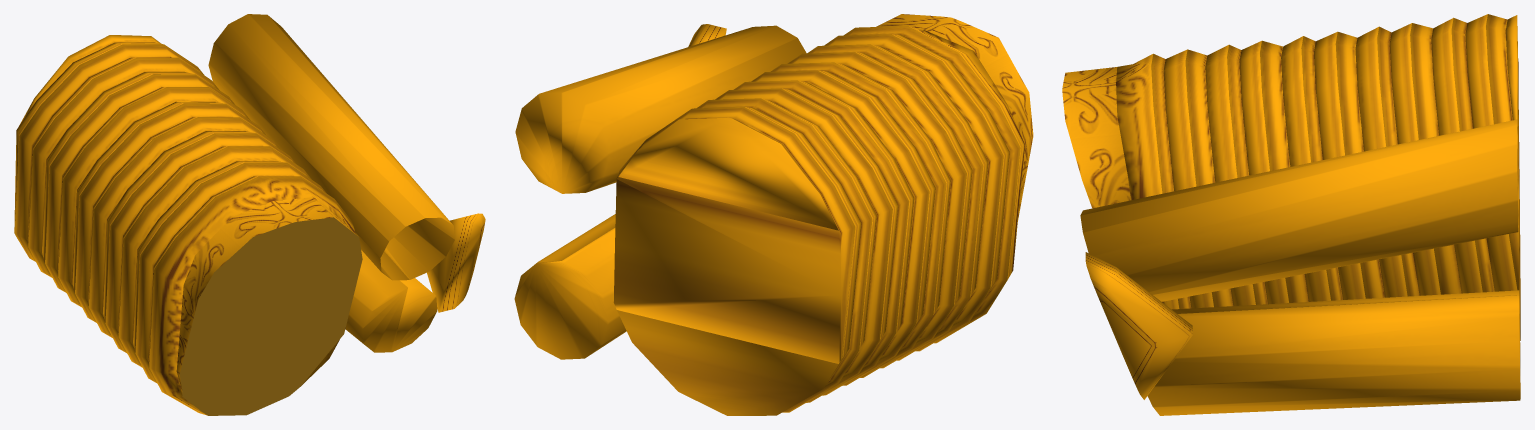
The model's file is Tatarapang_terpotong1.fbx.
3 views of the same model, side by side, from view 1: azimuth 30°, elevation 25°; view 2: azimuth 150°, elevation 25°; view 3: azimuth 270°, elevation 25° (orthographic). The views are drawn at different scales.
Parts seen in each view (by area): view 1: sarung1-lp.001_Material-Sarung1_0.002; view 2: sarung1-lp.001_Material-Sarung1_0.002; view 3: sarung1-lp.001_Material-Sarung1_0.002.
Part boxes in pixels (x1=…): sarung1-lp.001_Material-Sarung1_0.002: x1=14, y1=14, x2=485, y2=415; sarung1-lp.001_Material-Sarung1_0.002: x1=514, y1=14, x2=1033, y2=415; sarung1-lp.001_Material-Sarung1_0.002: x1=1062, y1=14, x2=1520, y2=415.
Size of the model in its own units: 15.39 by 13.76 by 16.42.
2 materials, 2 textured.
